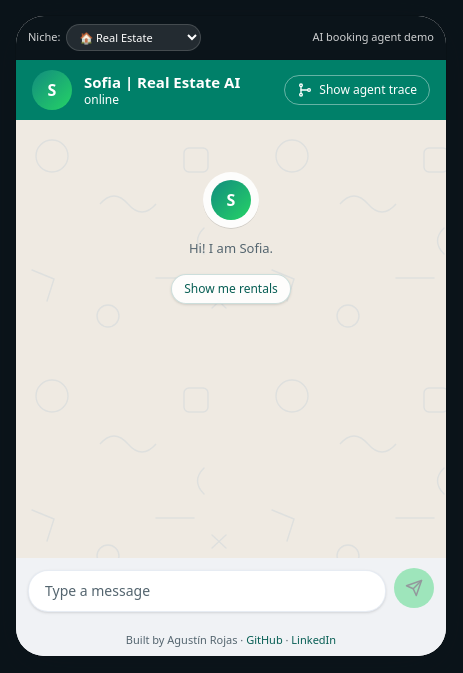
Test: chat flow › shows an error banner and Retry resends the same text, replacing the failed turn
expect the heading "Sofia | Real Estate AI" is shown: met, box [84,72,240,92]
expect the text "Hi! I am Sofia." is shown: met, box [189,240,273,258]
Step 1. Type "Hello?" into the text box labelled "message" → (207, 590), box [45,576,369,604]
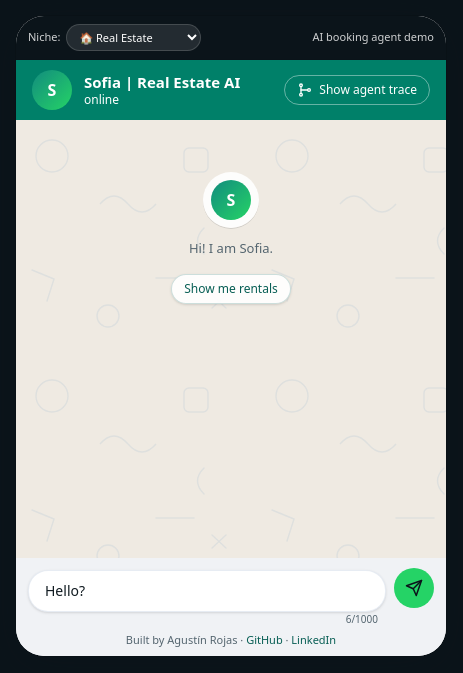
Step 2. Press Enter in the text box named "message", box [45,576,369,604]
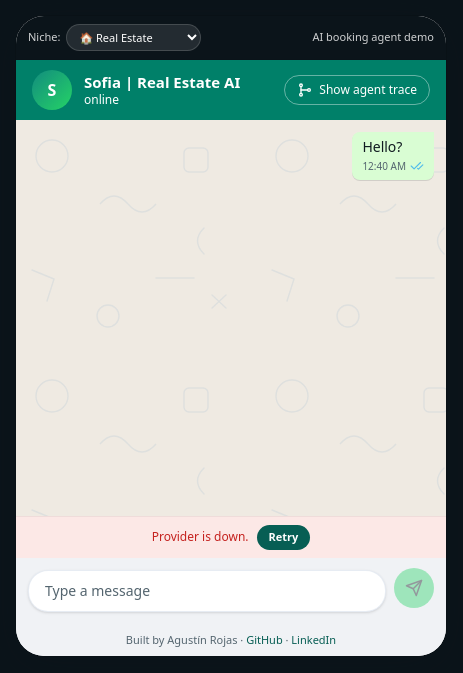
expect the text "Provider is down." is shown: met, box [152,528,248,546]
Step 3. Click the button "Retry" → click(283, 537), box [256,525,310,550]
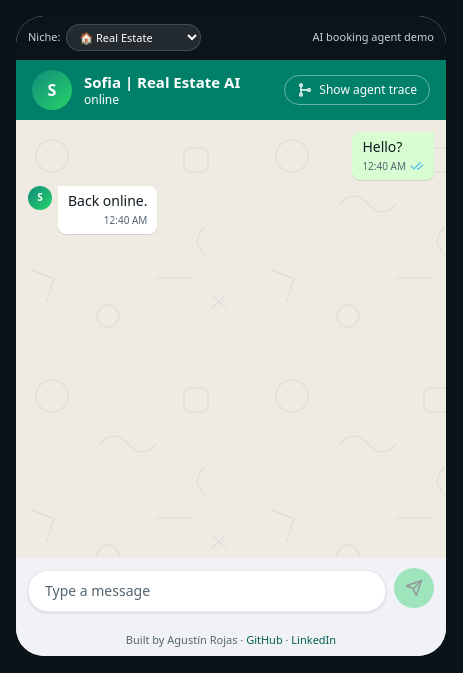
expect the text "Hello?" is shown once: met, box [362,137,402,156]
expect the text "Back online." is shown: met, box [68,192,147,211]
expect the message with test id "banner" is gone: met
